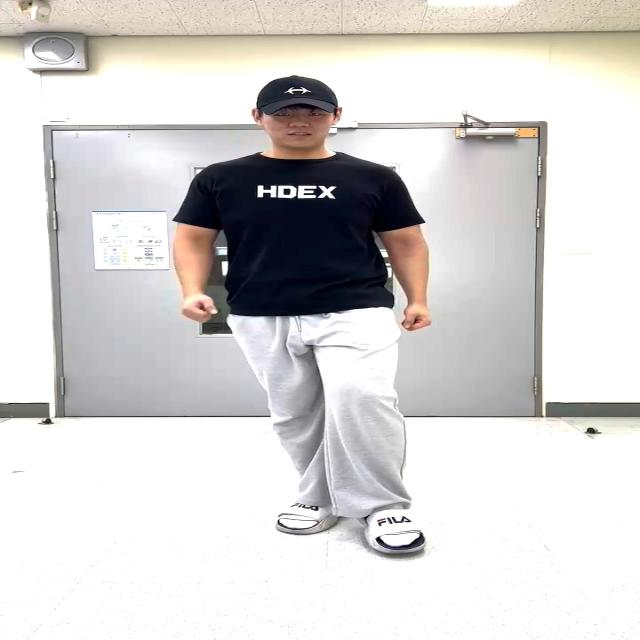leg: (291, 334, 467, 574)
